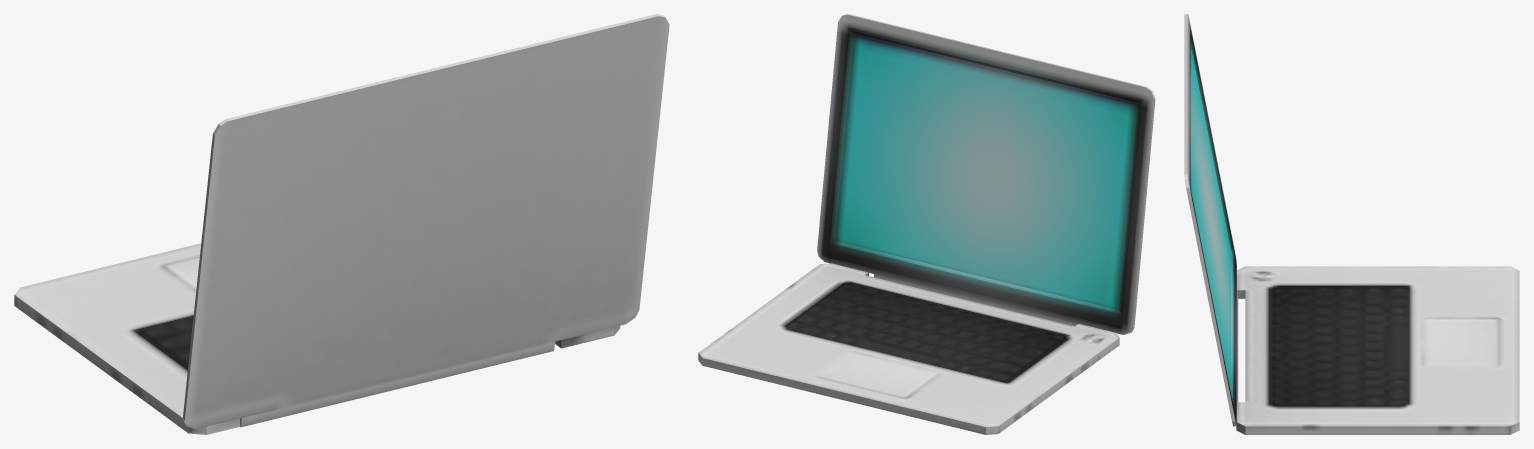
Rendered from ShenMiRenJia_01_diannao_01.FBX.
3 views of the same model, side by side, from view 1: azimuth 30°, elevation 25°; view 2: azimuth 150°, elevation 25°; view 3: azimuth 270°, elevation 25° (orthographic). The views are drawn at different scales.
Parts seen in each view (by area): view 1: ShenMiRenJia_01_diannao_01; view 2: ShenMiRenJia_01_diannao_01; view 3: ShenMiRenJia_01_diannao_01.
Part boxes in pixels (x1,y1,x2,y2): ShenMiRenJia_01_diannao_01: [14, 14, 669, 434]; ShenMiRenJia_01_diannao_01: [698, 14, 1155, 434]; ShenMiRenJia_01_diannao_01: [1184, 14, 1519, 434].
Size of the model in its own units: 305 by 220 by 256.
